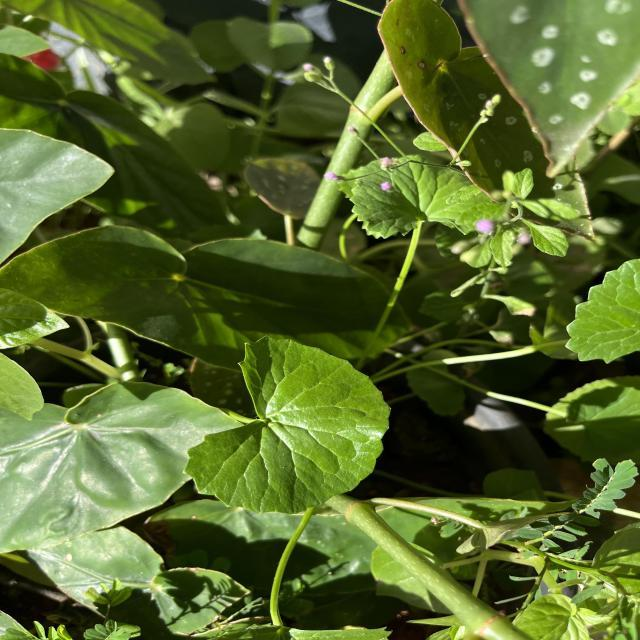Centella asiatica: (179, 330, 392, 516)
